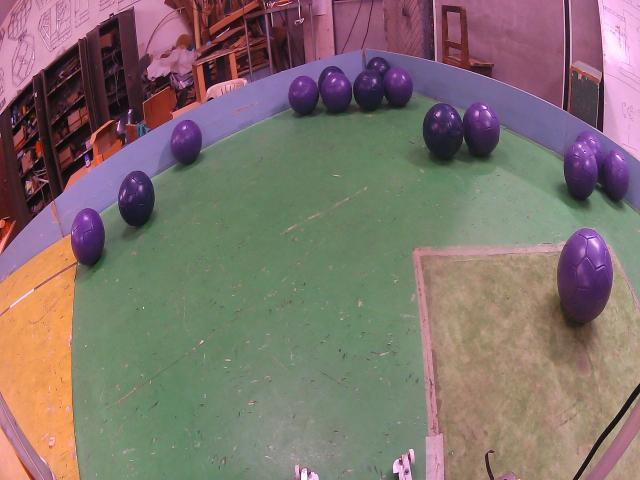jambhalya: (558, 228, 612, 323), (462, 102, 500, 157), (564, 142, 598, 200), (71, 208, 105, 265), (576, 130, 604, 185), (170, 120, 202, 165), (604, 150, 630, 200), (320, 72, 352, 112), (289, 75, 319, 115), (384, 67, 412, 107)
kaalyya: (422, 103, 464, 158), (118, 170, 155, 227), (352, 70, 384, 110), (318, 65, 344, 91), (366, 57, 390, 78)
